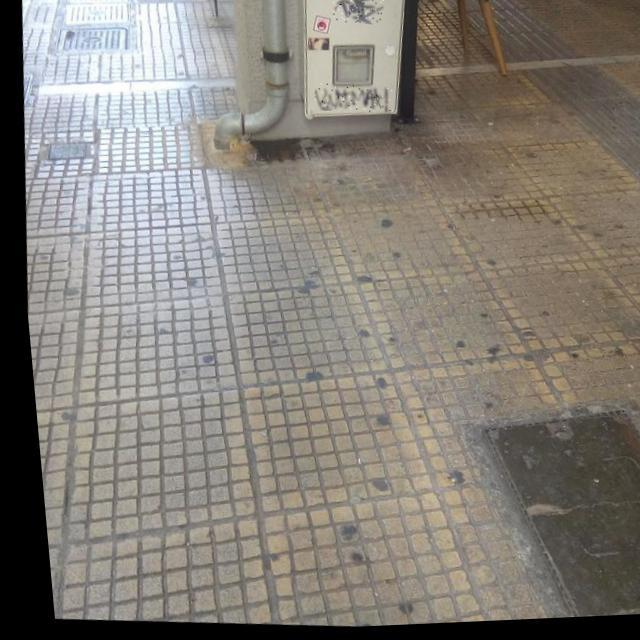-: (310, 83, 392, 118), (330, 0, 384, 29)
